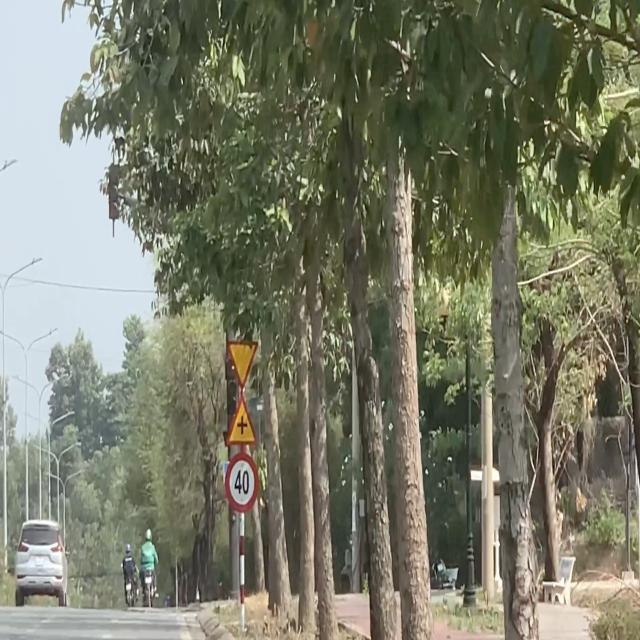Duong giao nhau: (225, 394, 258, 447)
Giao voi duong uu tien: (226, 339, 259, 391)
Toc do toi da: (225, 452, 259, 512)
